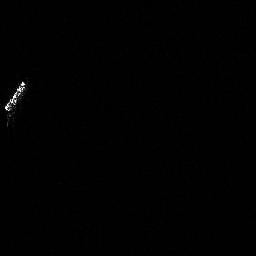ship: (2, 78, 28, 113)
